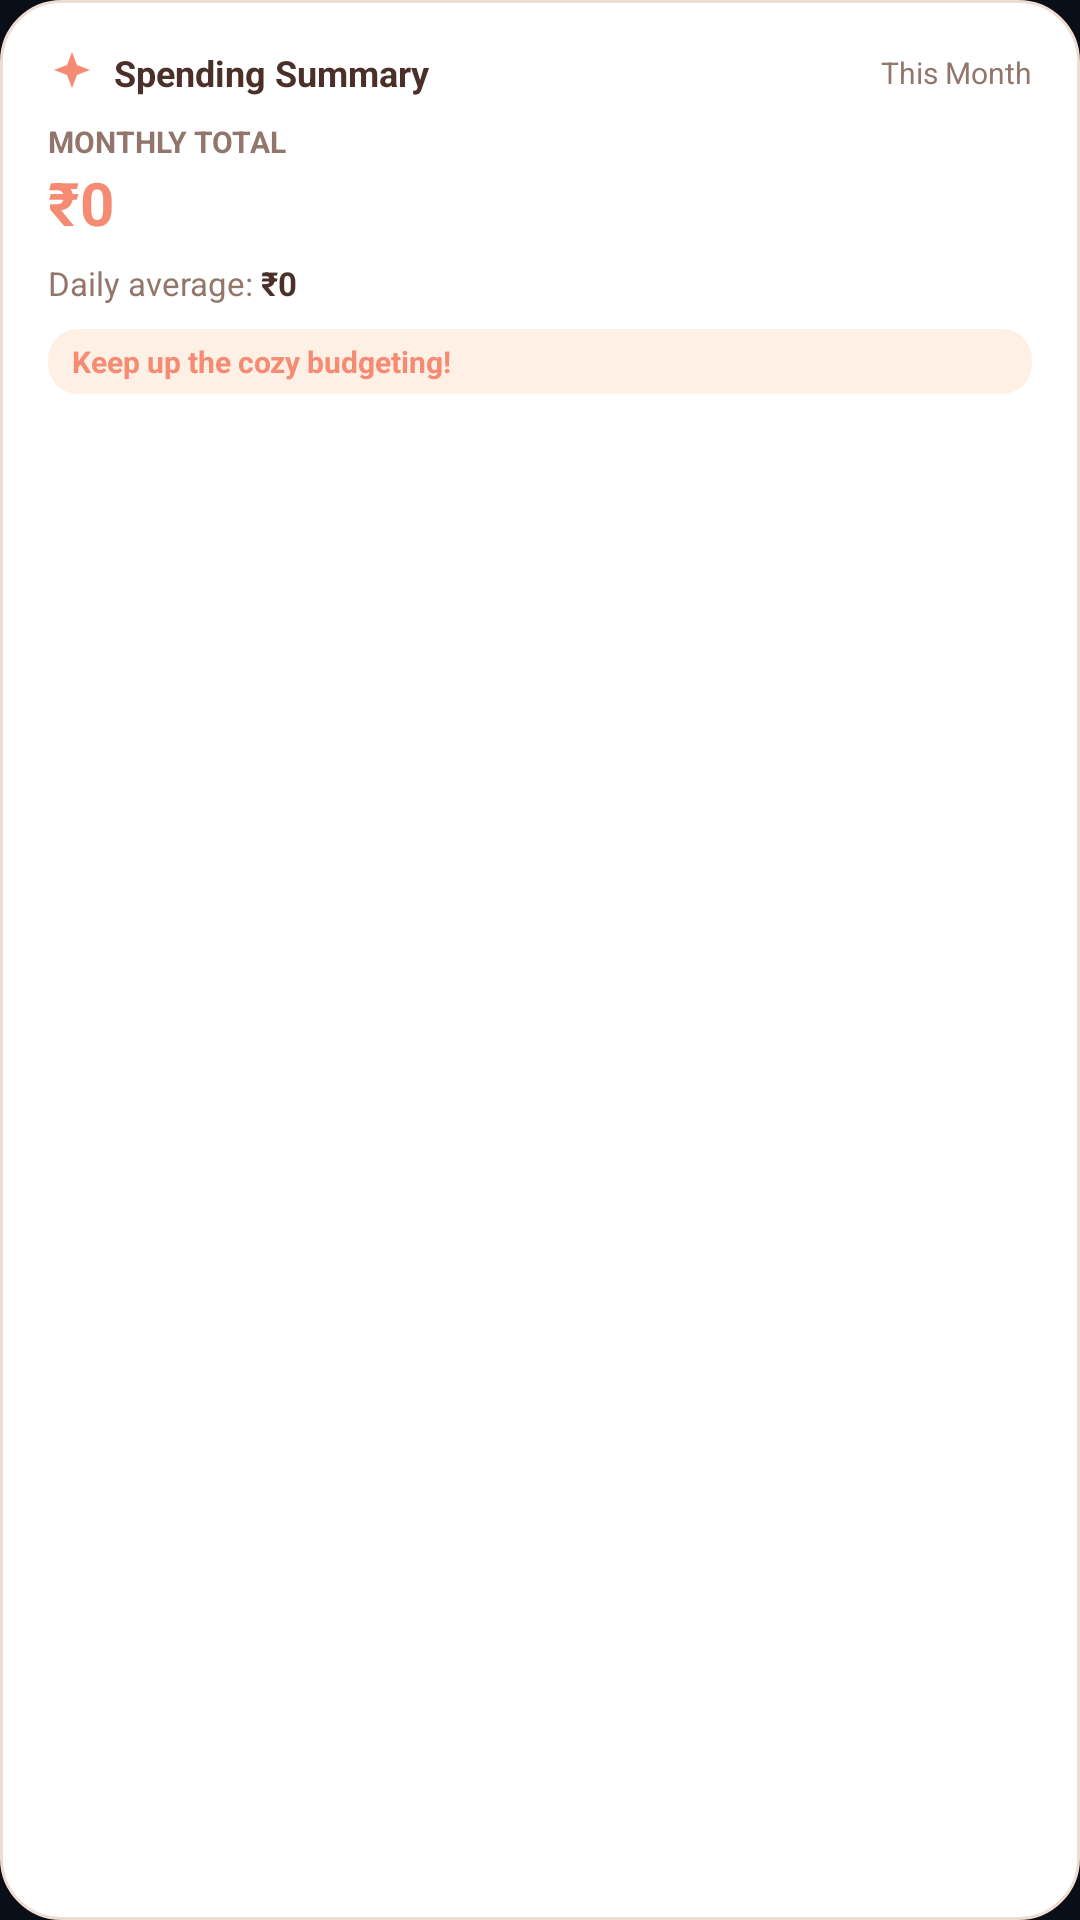

Where to tap for icons on this 1080 × 1920 app screen, as (x=x, y=y):
widget sparkle: (x=72, y=70)
